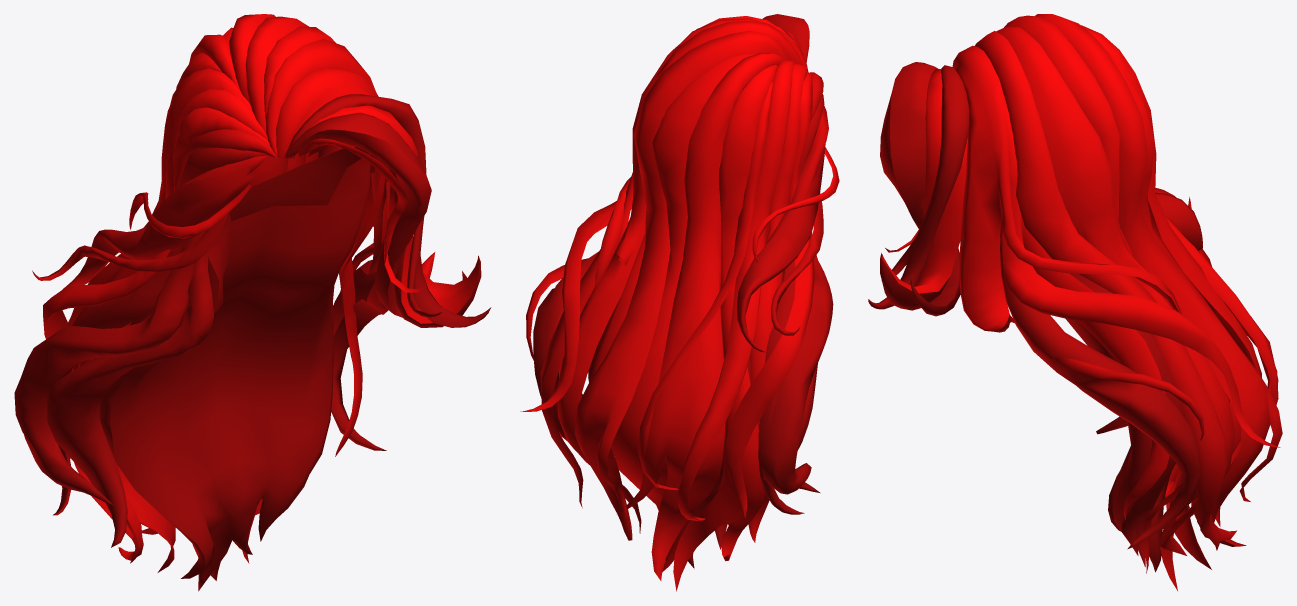
File: hair2.fbx
3 views of the same model, side by side, from view 1: azimuth 30°, elevation 25°; view 2: azimuth 150°, elevation 25°; view 3: azimuth 270°, elevation 25° (orthographic). The views are drawn at different scales.
Visible parts, largest first — view 1: hair2; view 2: hair2; view 3: hair2.
Boxes of the visible parts, x1,y1,x2,y2 form: hair2: (14,14,491,591); hair2: (520,14,839,591); hair2: (868,14,1282,590).
Bounding box in the file's own units: 37.29 × 63.82 × 42.79.
Materials: 1 (1 with a texture image).
